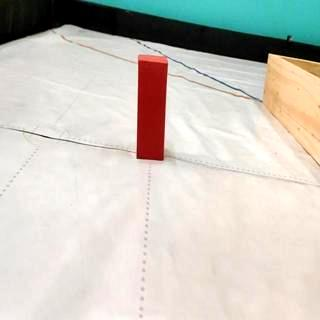redbox: (138, 54, 168, 162)
